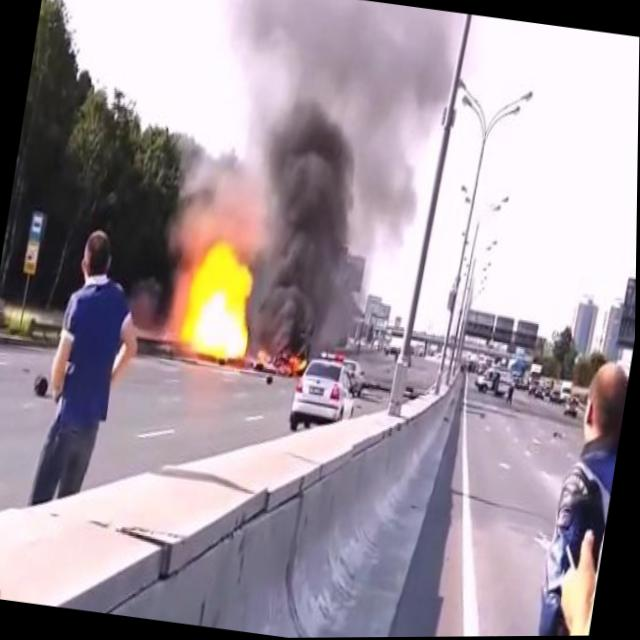fire: (174, 235, 267, 367), (256, 345, 310, 378)
